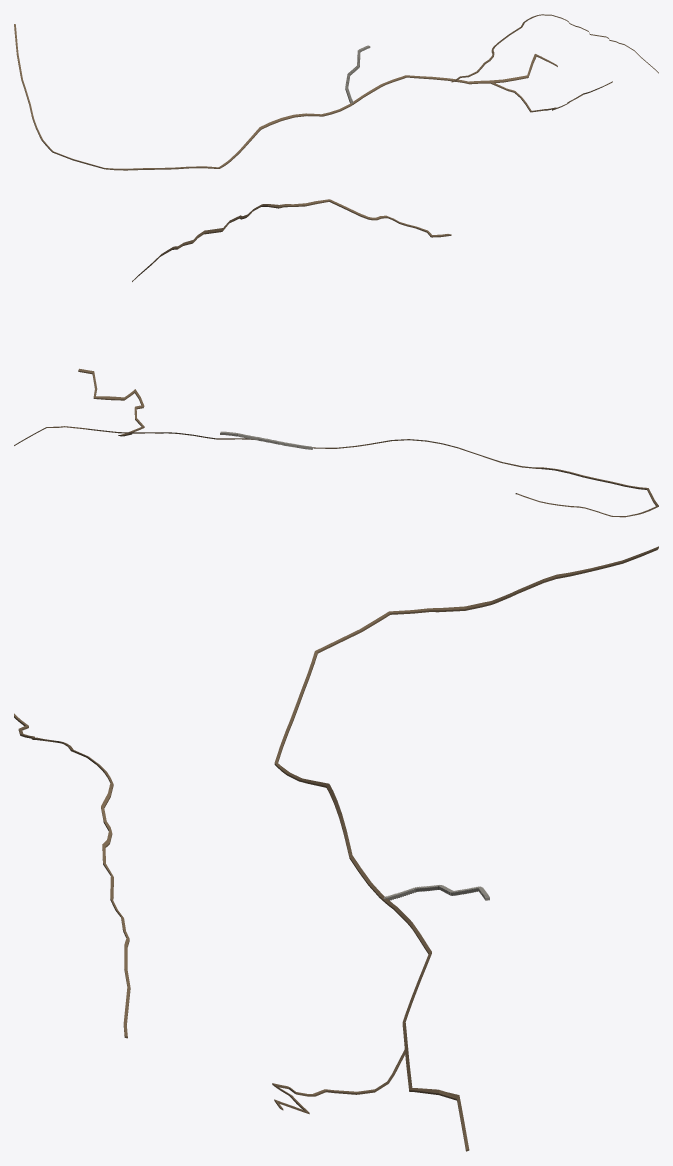
Rendered from 16-54722-29747.3fa3fdfb.glb.
3 renders of one model, top to bottom at view 1: azimuth 30°, elevation 25°; view 2: azimuth 150°, elevation 25°; view 3: azimuth 270°, elevation 25°, orthographic. The views are drawn at different scales.
Size of the model in its own units: 393 by 116 by 245.
